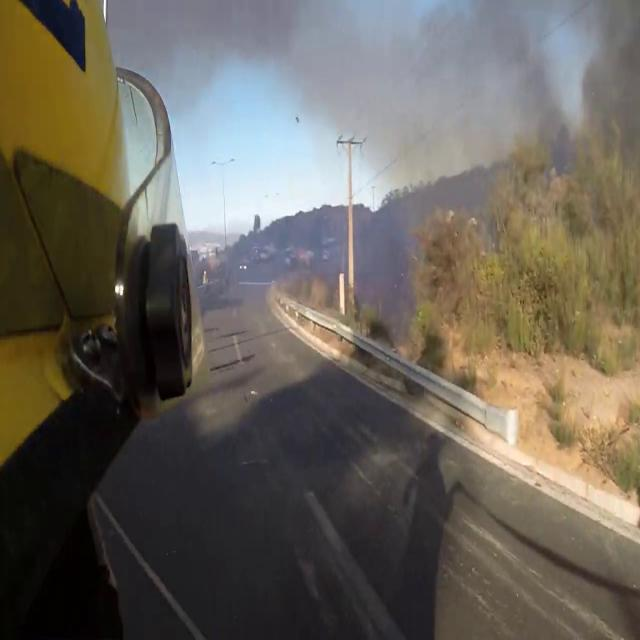Smoke: (302, 0, 640, 198)
